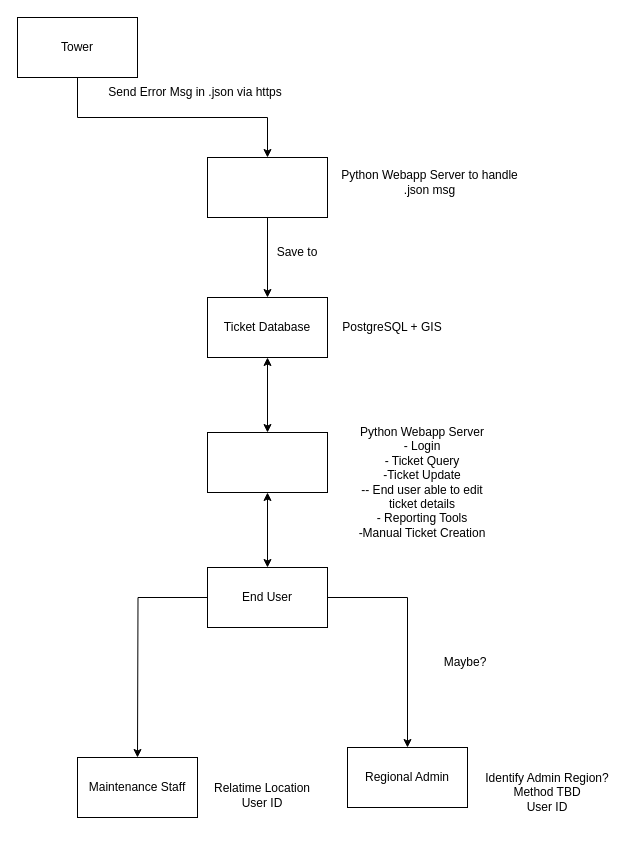
Image size: 635x850. Some labels were removed from this diagram. Each missing label, with the centre of its shape:
Message Receiver: (x=267, y=187)
Webapp: (x=267, y=462)
